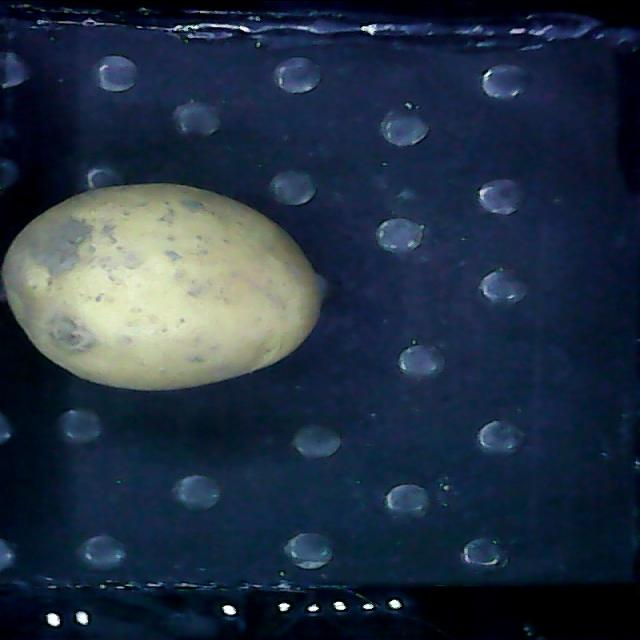-Kitchen waste - potato-: (4, 184, 324, 390)
